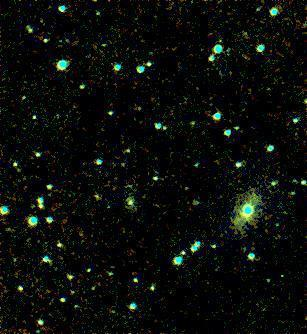star: (103, 208, 133, 238)
